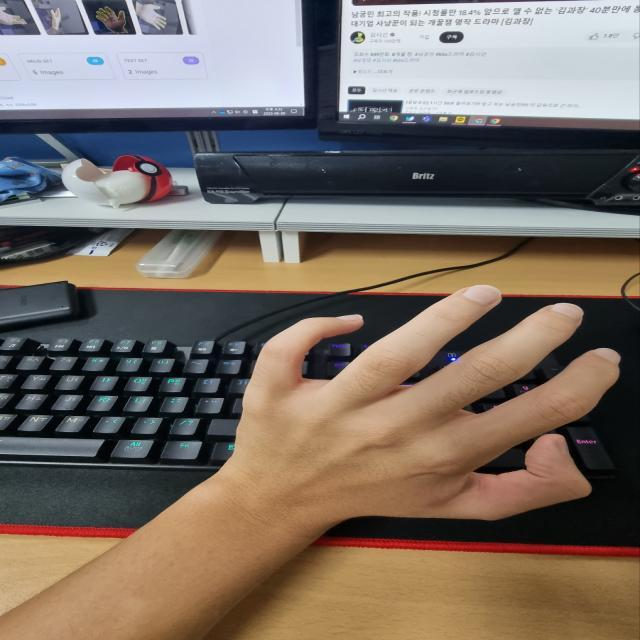keyboard-with-hands: (0, 338, 620, 479)
